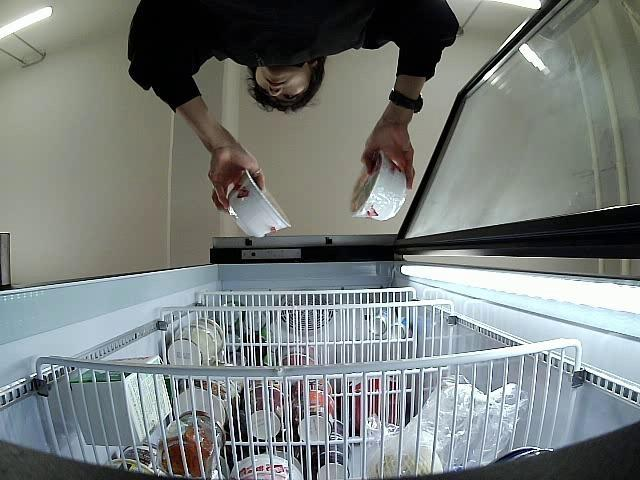09_yukGaeJang: (226, 169, 294, 240), (348, 148, 408, 222)
